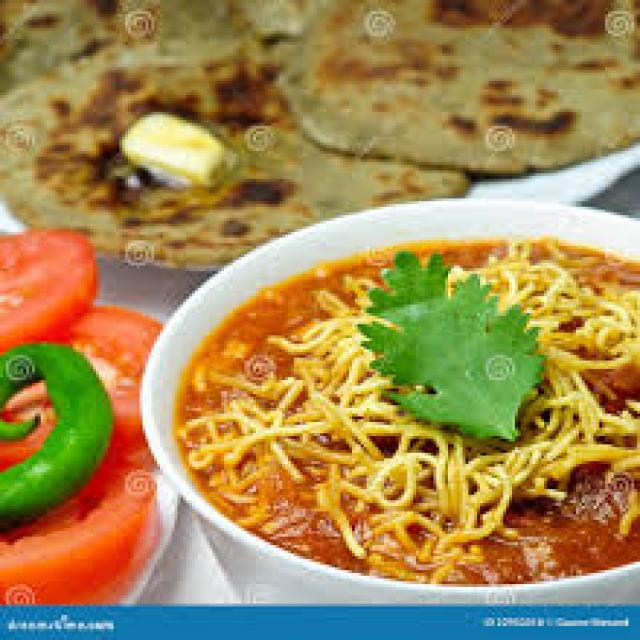ROTI: (0, 35, 480, 269), (292, 2, 637, 178)
